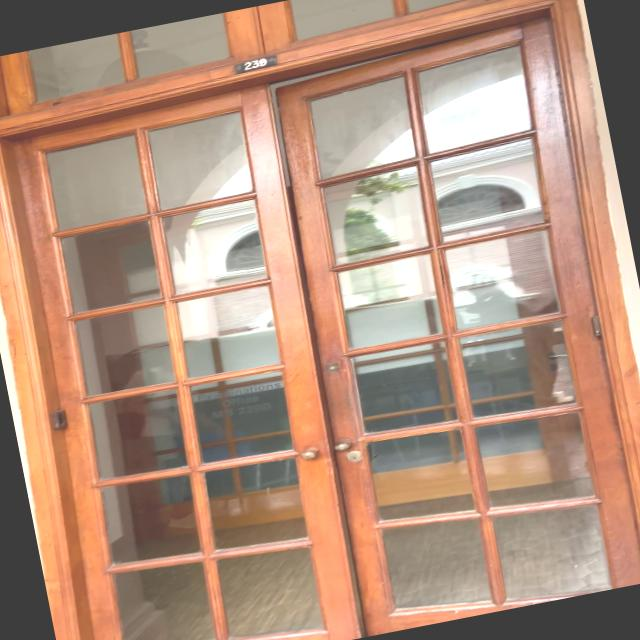room239: (230, 52, 282, 76)
